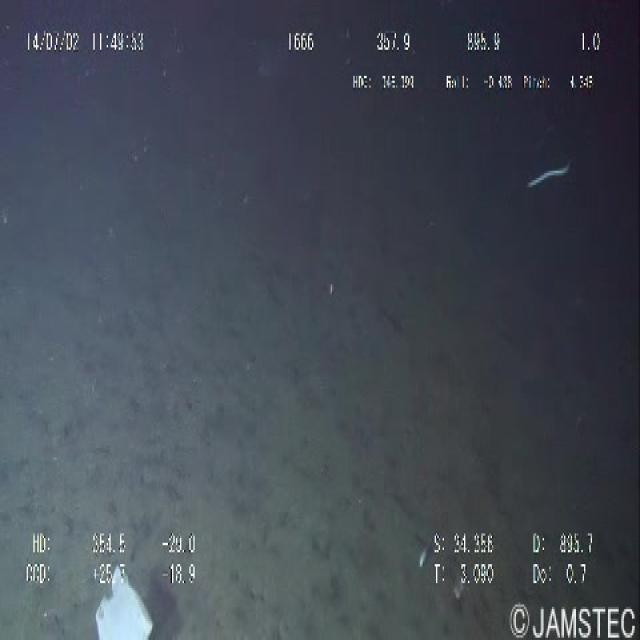plastic: (86, 557, 158, 638)
